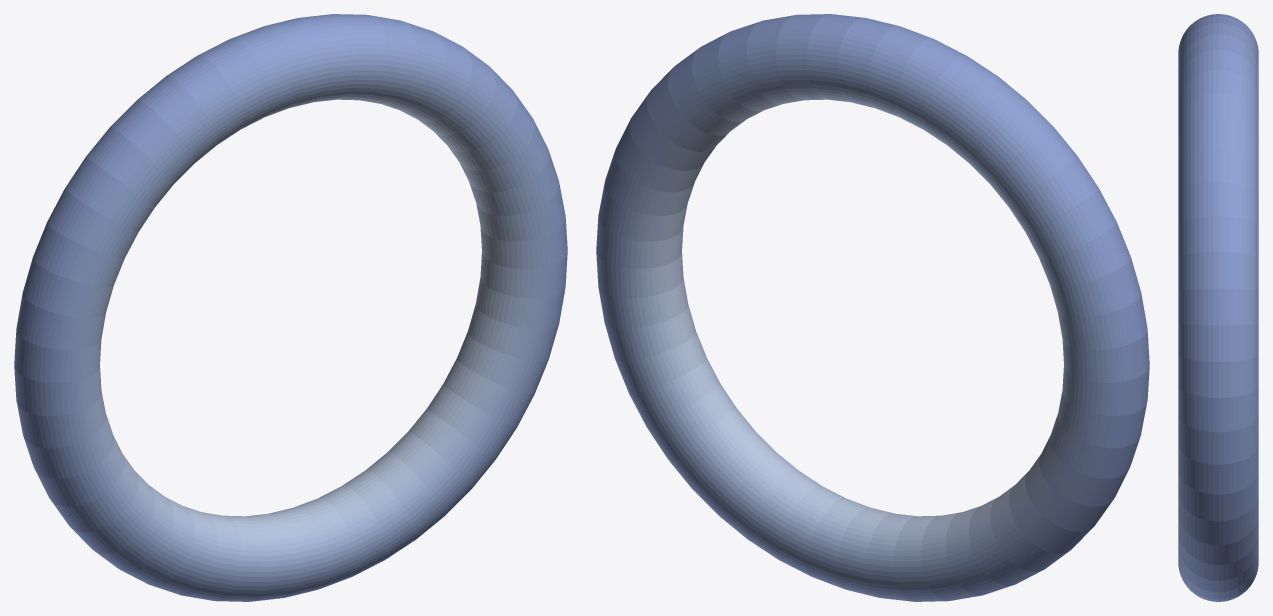
The picture shows the model from 3 angles, left to right: view 1: azimuth 30°, elevation 25°; view 2: azimuth 150°, elevation 25°; view 3: azimuth 270°, elevation 25°; orthographic projection. The views are drawn at different scales.
Parts seen in each view (by area): view 1: world; view 2: world; view 3: world.
Part boxes in pixels (<box>): world: <box>14,14,567,601</box>; world: <box>596,14,1149,601</box>; world: <box>1178,14,1258,601</box>.
Size of the model in its own units: 26.27 by 26.21 by 3.59.
